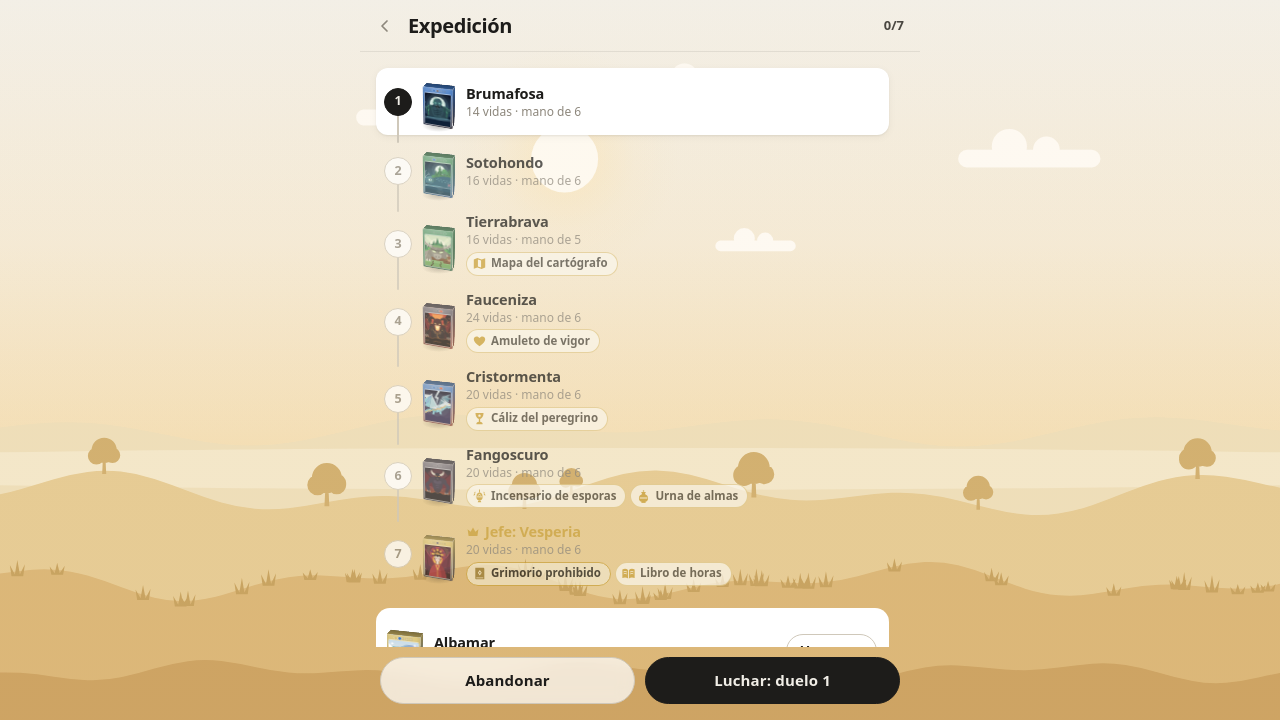
Scenario: starting an expedition › shows the relics the later rivals bring, the boss’s first, and reads one in a sheet
The width and height of the screenshot is (1280, 720).
Expected: the list item with test id "expedition-floor-7" shows "20 vidas · mano de 6", x1=466 y1=541 x2=581 y2=558
Click the button "Grimorio prohibido" at (538, 574), box x1=466 y1=562 x2=611 y2=586
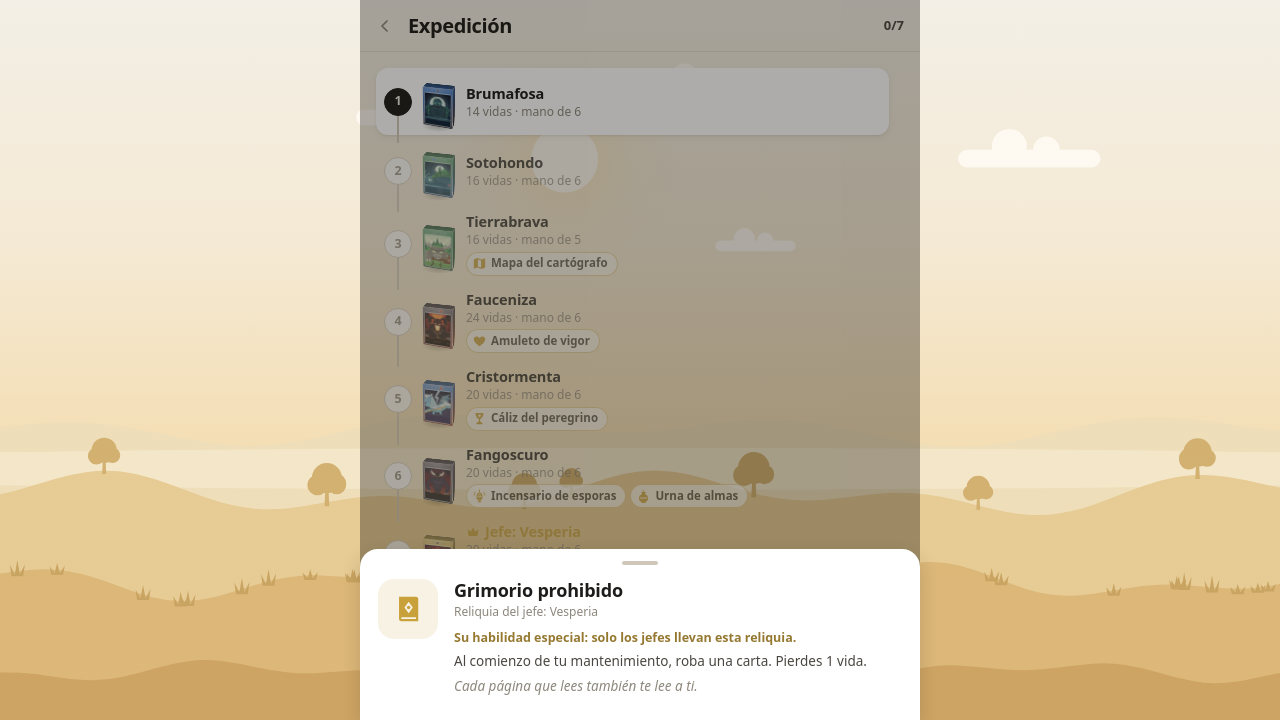
Expected: the heading "Grimorio prohibido" is shown, x1=454 y1=578 x2=623 y2=602
Expected: the element with test id "relic-sheet" shows "Su habilidad especial: solo los jefes llevan esta reliquia.", x1=454 y1=629 x2=796 y2=646
Click the element with test id "relic-sheet" at (640, 360), box x1=360 y1=0 x2=920 y2=719
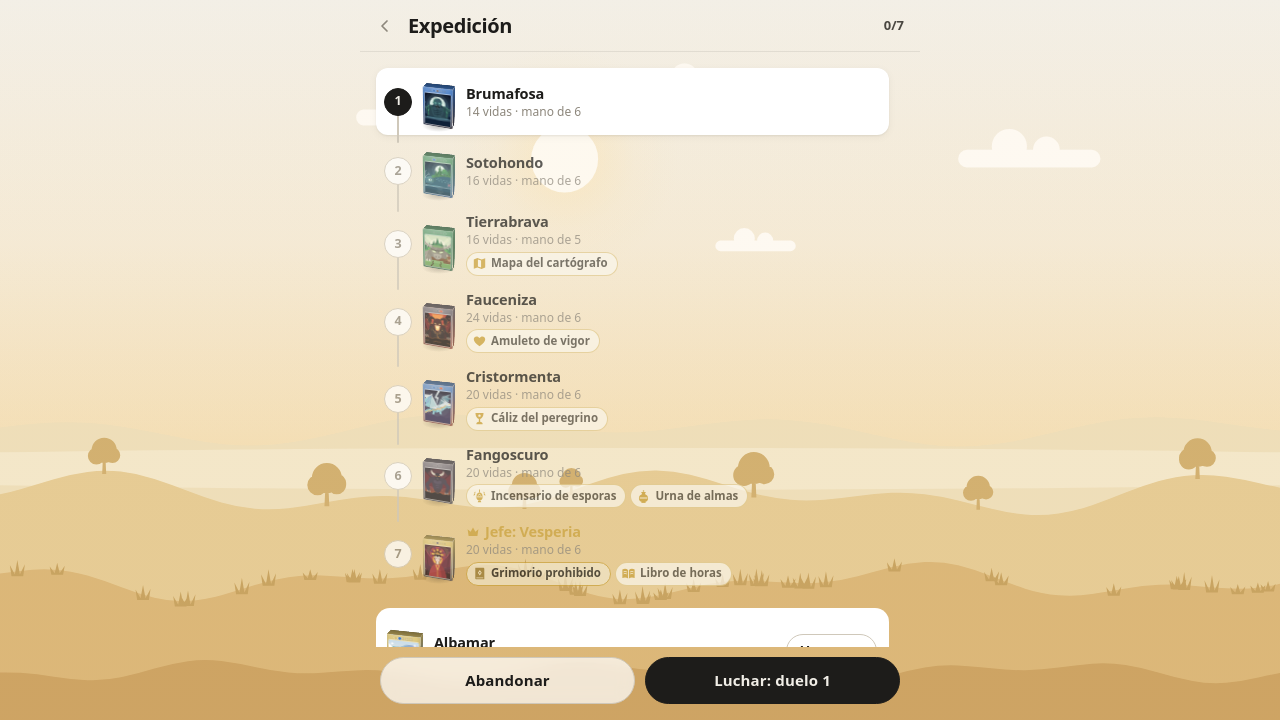
Expected: the element with test id "relic-sheet" is gone
